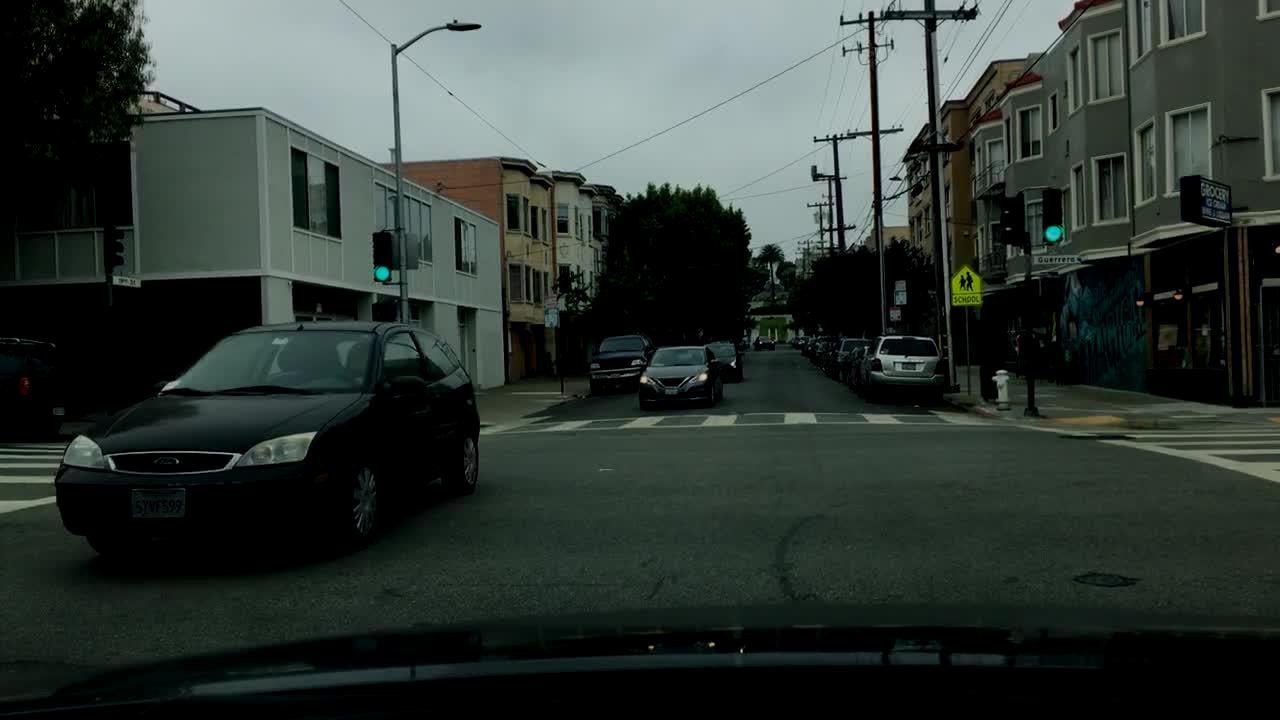ford: (143, 446, 189, 474)
